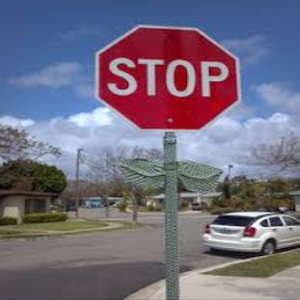STOP_SIGN: (95, 24, 241, 132)
